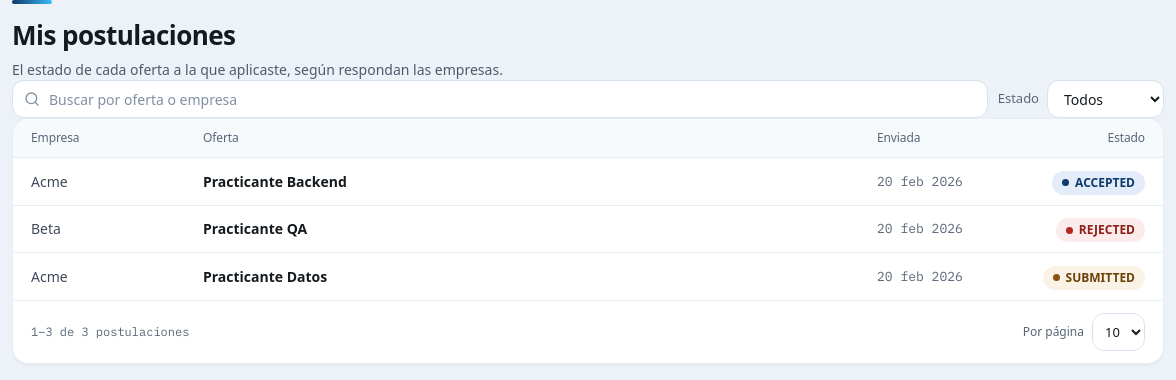
Test: MyApplicationsPage › searches by company and filters by status
The width and height of the screenshot is (1176, 380).
Expected: the text "Practicante Backend" is shown, [203,172,347,191]
Type "acme" into the search field at point(500, 99), box [12,80,988,118]
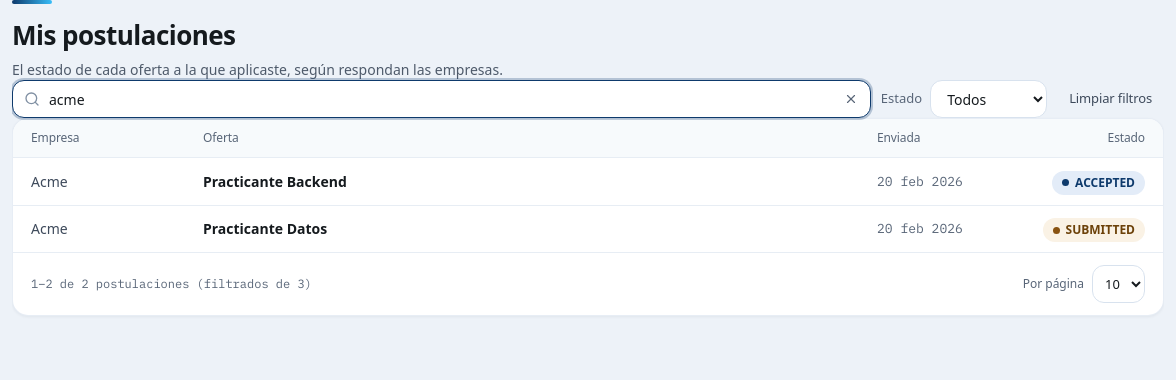
Now the link "Practicante QA" is gone
Select "Enviada" in the dropdown labelled "Estado" at point(989, 99), box [930,80,1047,118]
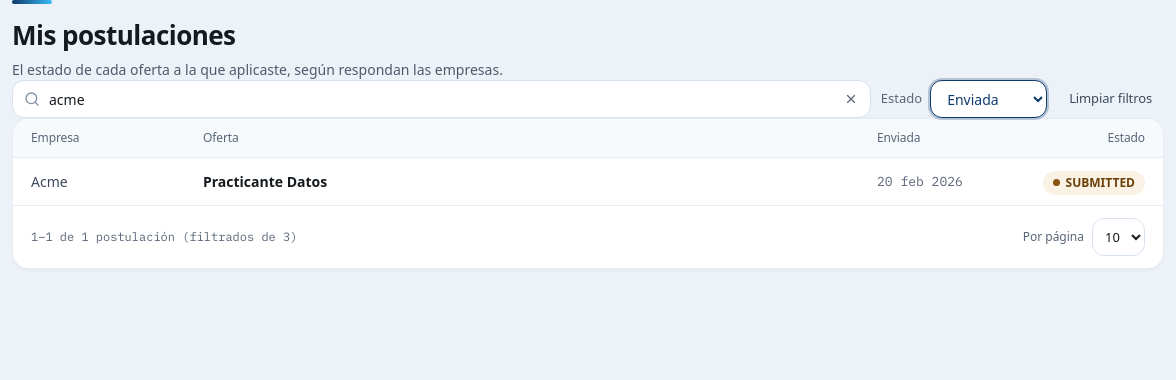
Expected: the text "Practicante Datos" is shown, [203,172,327,191]
Now the link "Practicante Backend" is gone
